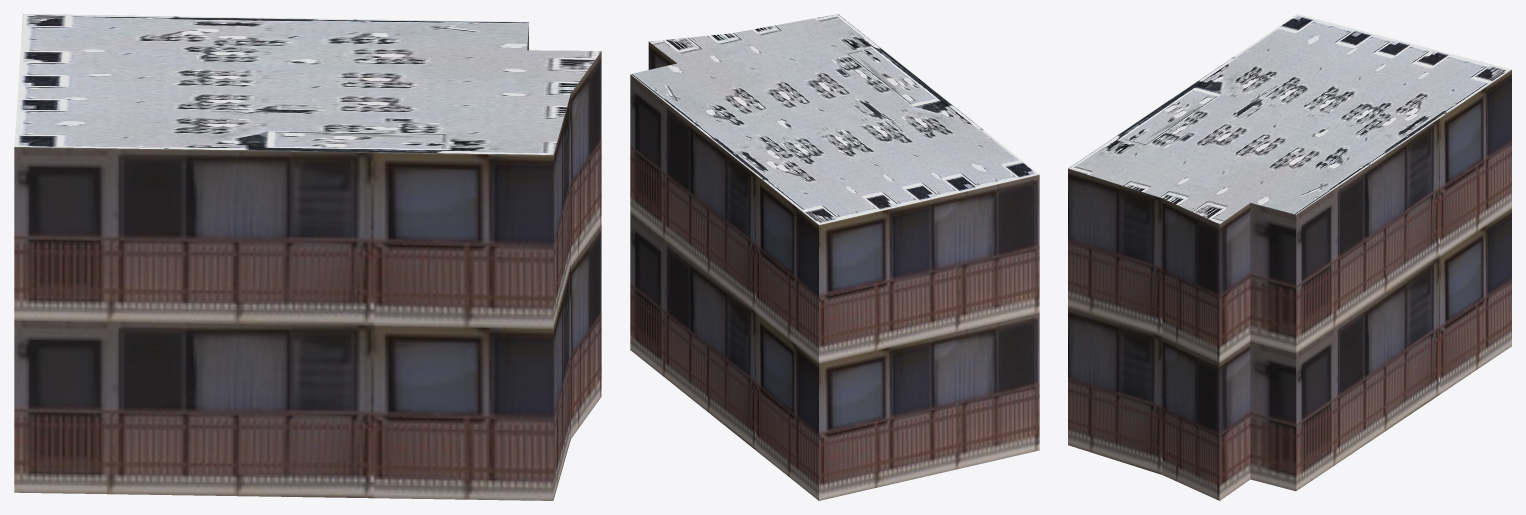
File: ResTex__5338.fbx
The picture shows the model from 3 angles, left to right: view 1: azimuth 30°, elevation 25°; view 2: azimuth 150°, elevation 25°; view 3: azimuth 270°, elevation 25°; orthographic projection. The views are drawn at different scales.
Visible parts, largest first — view 1: CityEngineMaterial_6_m, CityEngineMaterial_m; view 2: CityEngineMaterial_6_m, CityEngineMaterial_m; view 3: CityEngineMaterial_6_m, CityEngineMaterial_m.
Boxes of the visible parts, x1,y1,x2,y2 form: CityEngineMaterial_6_m: [14, 26, 601, 500]; CityEngineMaterial_m: [14, 14, 601, 154]; CityEngineMaterial_6_m: [630, 42, 1039, 500]; CityEngineMaterial_m: [630, 14, 1039, 224]; CityEngineMaterial_6_m: [1068, 70, 1511, 500]; CityEngineMaterial_m: [1068, 14, 1511, 224].
Bounding box in the file's own units: 9.78 × 6 × 8.72.
Materials: 2 (2 with a texture image).
